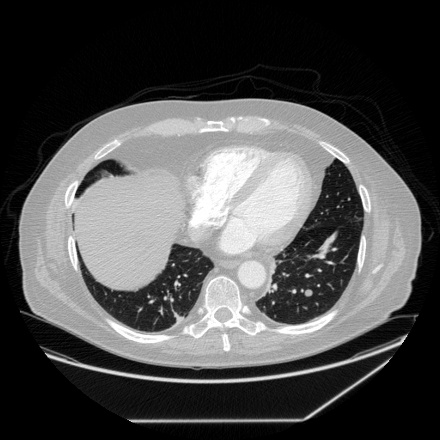PN: (304, 288, 312, 296)
